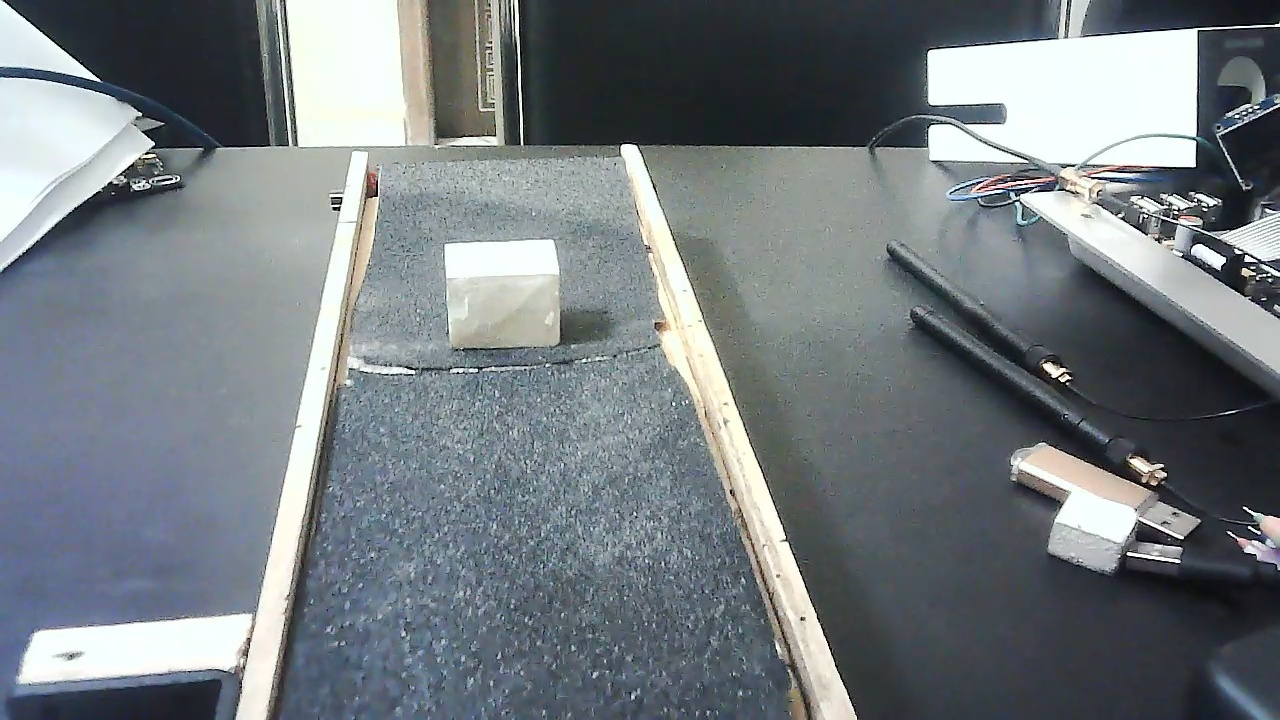Medium: (445, 235, 562, 352)
